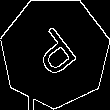P_SE: (25, 21, 84, 83)
